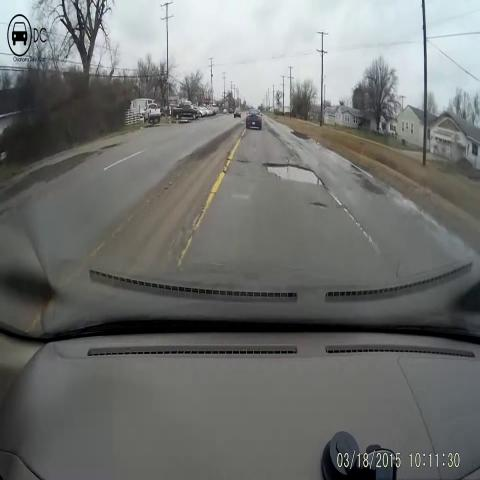pothole: (256, 154, 323, 194), (218, 141, 251, 180), (307, 189, 333, 217)
